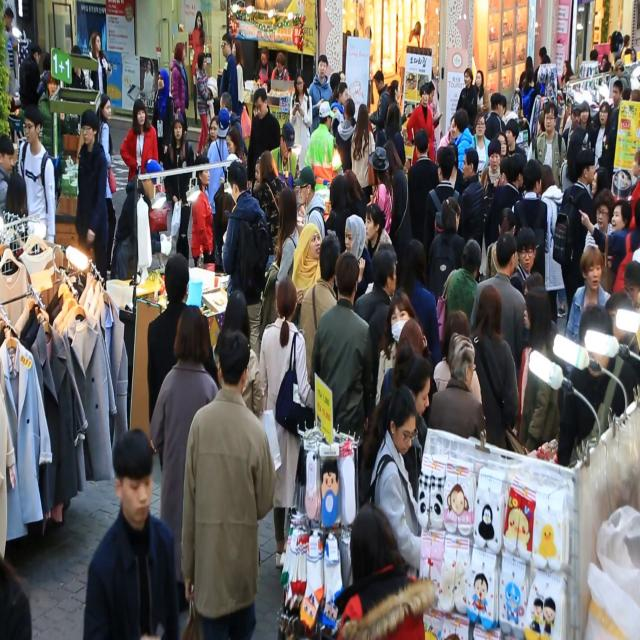body: (178, 326, 278, 639), (148, 305, 220, 604), (83, 426, 181, 639), (257, 273, 317, 573), (146, 250, 224, 477), (309, 251, 374, 504), (332, 500, 438, 640), (554, 302, 639, 472), (358, 342, 431, 508), (364, 384, 421, 578), (222, 159, 270, 368), (468, 231, 531, 381), (551, 149, 598, 335), (468, 283, 520, 450), (511, 285, 561, 456), (353, 247, 398, 417), (210, 288, 264, 422), (257, 184, 301, 347), (562, 243, 612, 380), (110, 158, 165, 282), (298, 232, 342, 386), (379, 318, 440, 428), (427, 329, 486, 442), (220, 157, 253, 353), (75, 107, 110, 291), (18, 105, 63, 248), (601, 263, 640, 420), (375, 290, 424, 406), (397, 240, 440, 368), (437, 239, 482, 361), (578, 199, 632, 296), (432, 307, 483, 409), (346, 10, 426, 75), (163, 111, 196, 262), (512, 158, 548, 288), (253, 149, 290, 271), (539, 163, 566, 328), (382, 138, 411, 290), (426, 196, 466, 305), (119, 96, 161, 196), (426, 144, 464, 254), (456, 146, 486, 283), (245, 87, 282, 192), (96, 92, 117, 276), (407, 129, 440, 243), (304, 100, 344, 192), (288, 222, 323, 324), (151, 69, 176, 202), (532, 101, 567, 191), (206, 108, 232, 229), (332, 168, 369, 252), (582, 188, 620, 268), (190, 152, 216, 268), (364, 144, 396, 236), (1, 172, 29, 275), (0, 553, 33, 640), (485, 206, 523, 278), (481, 137, 503, 261), (292, 163, 327, 239), (350, 102, 376, 201), (406, 83, 437, 166), (36, 71, 64, 161), (588, 29, 639, 78), (324, 174, 355, 254), (289, 69, 313, 171), (344, 213, 373, 297), (194, 50, 214, 162), (589, 99, 617, 178), (184, 7, 211, 84), (509, 225, 538, 296), (168, 42, 190, 134), (308, 54, 333, 134), (269, 121, 301, 182), (232, 39, 248, 160), (83, 30, 113, 94), (219, 90, 248, 156), (218, 31, 240, 115), (368, 69, 390, 149), (18, 43, 43, 113), (364, 202, 393, 262), (334, 97, 356, 174), (219, 125, 246, 186), (559, 128, 583, 195), (424, 80, 443, 164), (64, 43, 90, 104), (2, 6, 19, 97), (455, 67, 478, 134), (0, 132, 16, 227), (471, 112, 492, 183), (384, 101, 406, 167), (628, 150, 640, 262), (128, 57, 156, 104), (453, 108, 473, 172), (328, 81, 349, 141), (386, 79, 409, 133), (483, 91, 507, 142), (578, 98, 598, 156), (446, 140, 466, 197), (520, 65, 538, 126), (435, 113, 456, 165), (505, 118, 528, 164), (526, 112, 546, 164), (562, 101, 582, 152), (254, 46, 275, 93), (589, 166, 613, 201), (36, 50, 53, 96), (474, 70, 490, 114), (202, 116, 218, 158), (609, 80, 623, 127), (270, 52, 291, 82), (518, 54, 534, 92), (534, 46, 548, 84), (494, 130, 510, 162), (619, 83, 640, 107), (328, 72, 341, 108), (497, 94, 511, 126), (559, 60, 574, 89), (252, 155, 264, 191), (339, 70, 346, 82), (546, 54, 551, 62)
